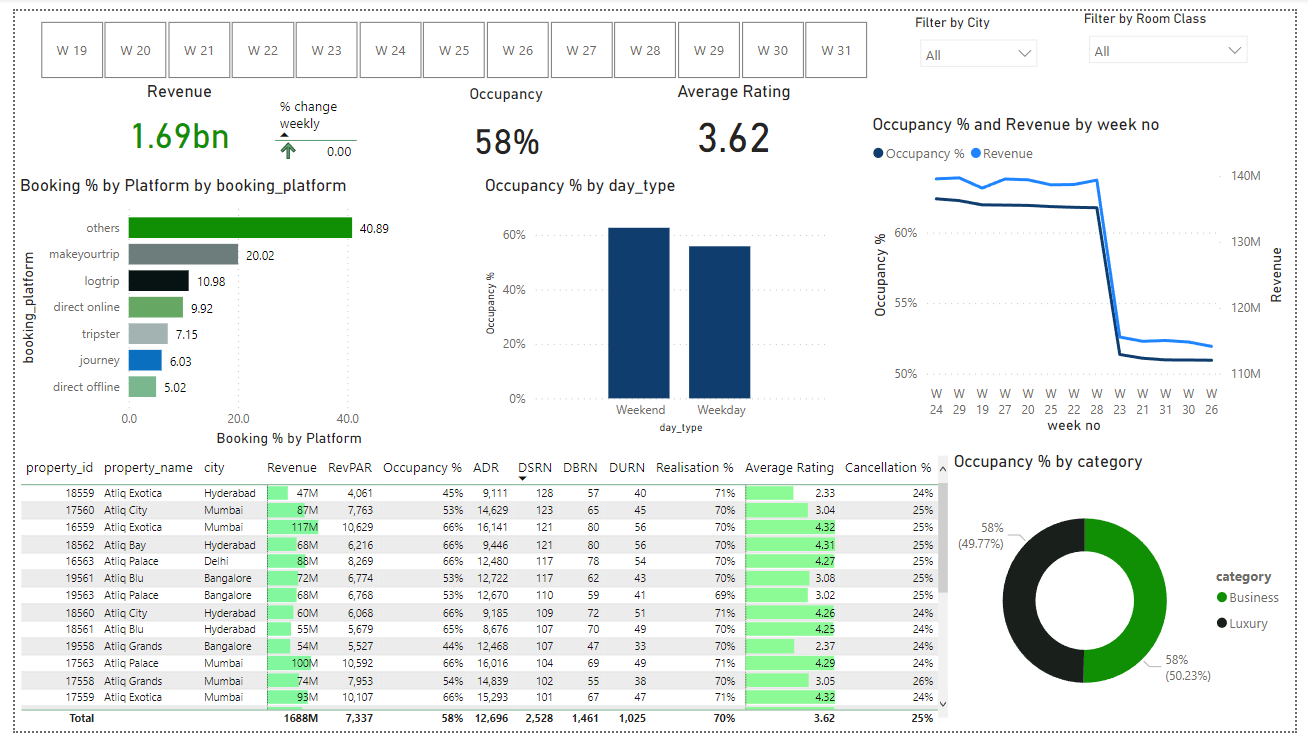

Layout of this report page (visuals, bound fields, positions):
{"tool":"powerbi","page":{"name":"Page 1","canvas":[1280,720],"ordinal":0},"visuals":[{"type":"tableEx","fields":{"Values":["dim_hotels.property_id","dim_hotels.property_name","dim_hotels.city","Key_Measures.Revenue","Key_Measures.RevPAR","Key_Measures.Occupancy %","Key_Measures.ADR","Key_Measures.DSRN","Key_Measures.DBRN","Key_Measures.DURN","Key_Measures.Realisation %","Key_Measures.Average Rating"]},"box":[0,440,937.5,280],"z":0},{"type":"slicer","title":"Filter by City","fields":{"Values":["dim_hotels.city"]},"box":[895,3.8,137.5,70],"z":1000},{"type":"slicer","title":"Filter by Room Class","fields":{"Values":["dim_rooms.room_class"]},"box":[1063.8,0,178.8,86.2],"z":2000},{"type":"slicer","fields":{"Values":["dim_date.week no"]},"box":[0,3.8,876.2,70],"z":3000},{"type":"card","title":"Revenue","fields":{"Values":["Key_Measures.Revenue"]},"box":[75,70,178.8,85],"z":4000},{"type":"tableEx","fields":{"Values":["Key_Measures.Revenue WoW change %"]},"box":[253.8,78.8,97.5,77.5],"z":5000},{"type":"donutChart","fields":{"Category":["dim_hotels.category"],"Y":["Key_Measures.Occupancy %"]},"box":[933.8,440,346.2,280],"z":6000},{"type":"card","title":"Occupancy ","fields":{"Values":["Key_Measures.Occupancy %"]},"box":[422.5,73.8,137.5,90],"z":7000},{"type":"card","title":"Average Rating","fields":{"Values":["Key_Measures.Average Rating"]},"box":[640,70,157.5,85],"z":8000},{"type":"clusteredBarChart","fields":{"Category":["fact_bookings.booking_platform"],"Y":["Key_Measures.Booking % by Platform"]},"box":[0,163.8,451.2,276.2],"z":9000},{"type":"clusteredColumnChart","fields":{"Category":["dim_date.day_type"],"Y":["Key_Measures.Occupancy %"]},"box":[465,163.8,351.2,263.8],"z":10000},{"type":"lineChart","fields":{"Category":["dim_date.week no"],"Y":["Key_Measures.Occupancy %"],"Y2":["Key_Measures.Revenue"]},"box":[852.5,102.5,421.2,325],"z":11000}]}

Visuals, with their boxes in screenshot pixels (x1, y1, x2, y2), scaled from the page's 1280x720 canvas onto the 1308x742 screenshot:
tableEx - dim_hotels.property_id x dim_hotels.property_name: rect(0, 453, 958, 741)
"Filter by City" slicer: rect(915, 4, 1055, 76)
"Filter by Room Class" slicer: rect(1087, 0, 1270, 89)
slicer - dim_date.week no: rect(0, 4, 895, 76)
"Revenue" card: rect(77, 72, 259, 160)
tableEx - Key_Measures.Revenue WoW change %: rect(259, 81, 359, 161)
donutChart - dim_hotels.category x Key_Measures.Occupancy %: rect(954, 453, 1307, 741)
"Occupancy " card: rect(432, 76, 572, 169)
"Average Rating" card: rect(654, 72, 815, 160)
clusteredBarChart - fact_bookings.booking_platform x Key_Measures.Booking % by Platform: rect(0, 169, 461, 453)
clusteredColumnChart - dim_date.day_type x Key_Measures.Occupancy %: rect(475, 169, 834, 441)
lineChart - dim_date.week no x Key_Measures.Occupancy %: rect(871, 106, 1302, 441)
